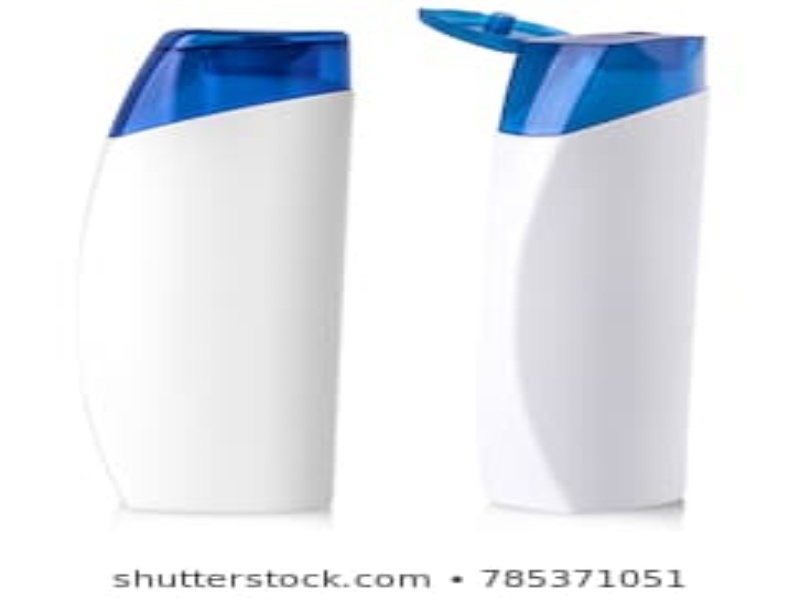shampoo-bottle: (415, 3, 713, 519), (81, 23, 355, 517)
